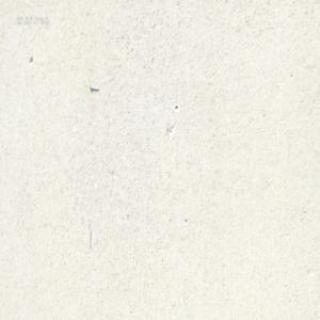Nailtrack_idkeyframe: (88, 83, 99, 90)
